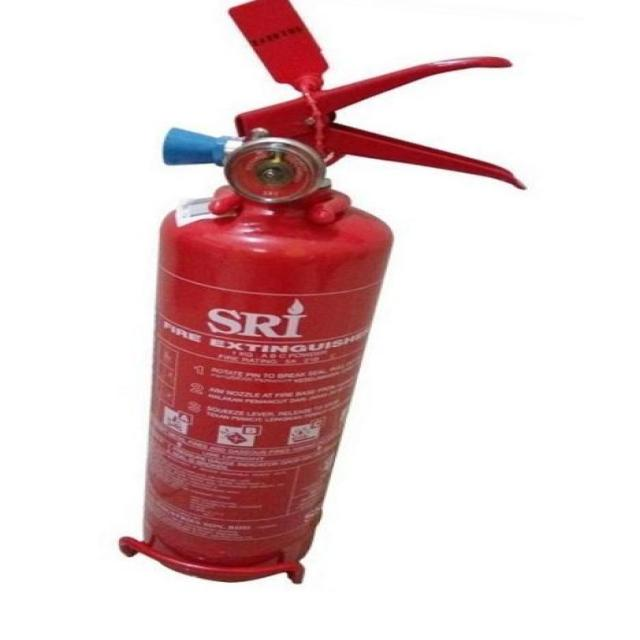fire_extinguisher: (99, 0, 542, 589)
